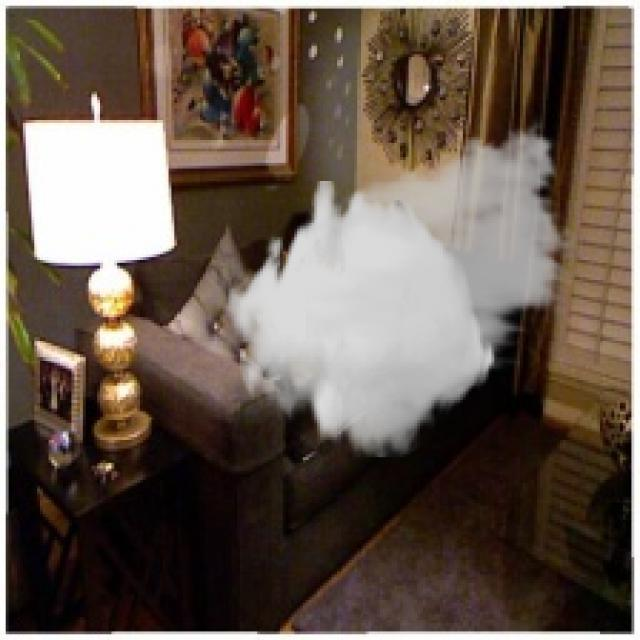Smoke: (225, 114, 578, 457)
